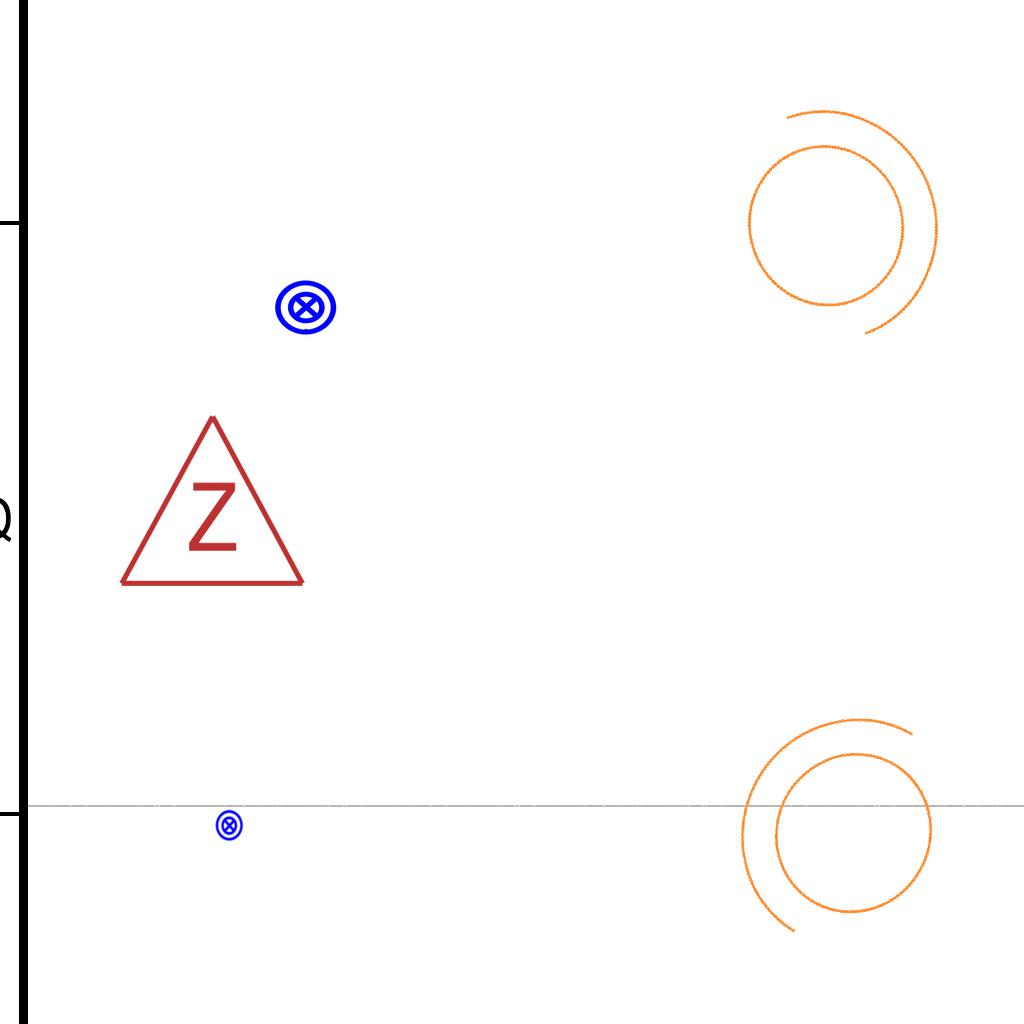Scheinwerfer_fuer_Alarmbeleuchtung: (677, 662, 1007, 1005), (682, 53, 984, 380)
Taster_beleuchtet: (273, 274, 339, 340), (213, 809, 246, 842)
Zimmersignalleuchte: (112, 401, 308, 601)
